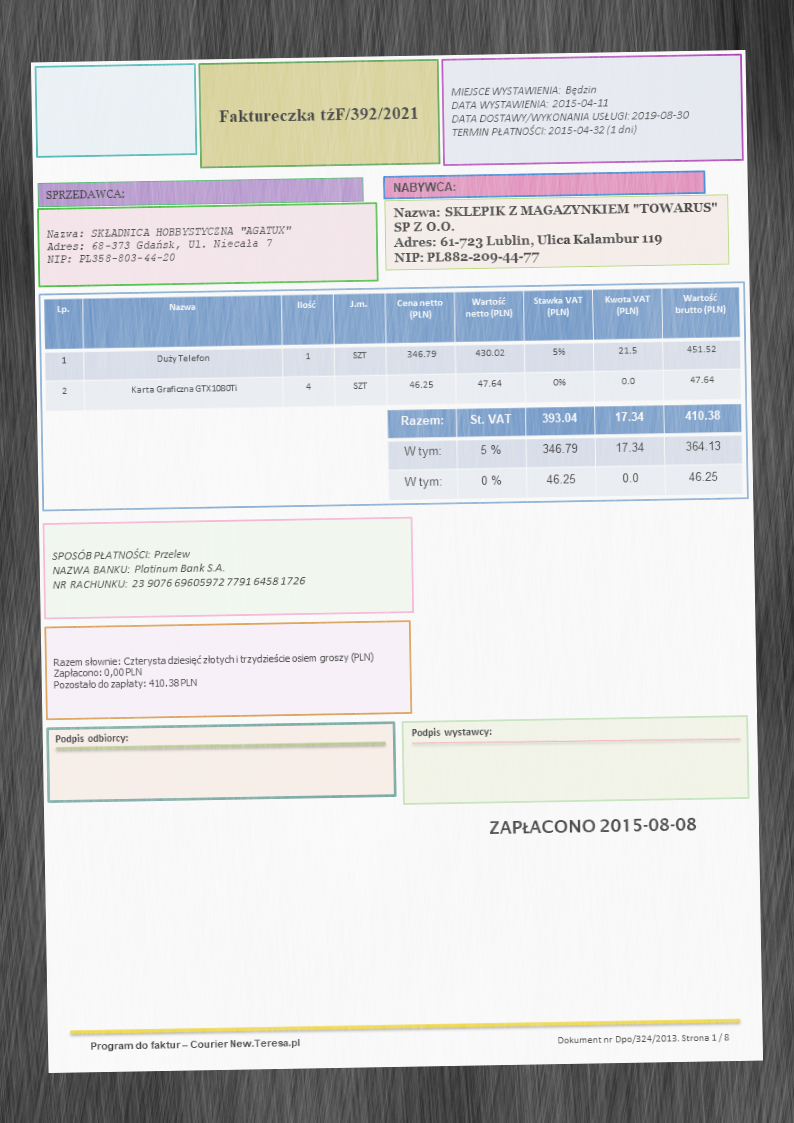Table: (43, 285, 742, 412), (386, 402, 743, 501)
TextBox: (391, 200, 720, 266), (449, 82, 691, 140), (52, 650, 376, 691), (49, 544, 307, 591), (45, 222, 293, 266), (217, 103, 419, 125), (488, 815, 697, 836), (88, 1035, 302, 1054), (556, 1030, 731, 1048), (43, 186, 128, 203), (409, 724, 493, 741), (53, 730, 130, 746), (391, 178, 457, 195)
